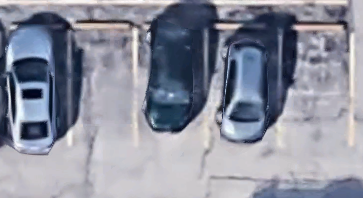Occupied: (205, 26, 280, 146), (134, 26, 205, 145), (1, 25, 70, 145)
Vacant: (280, 26, 352, 145), (69, 26, 136, 144)
